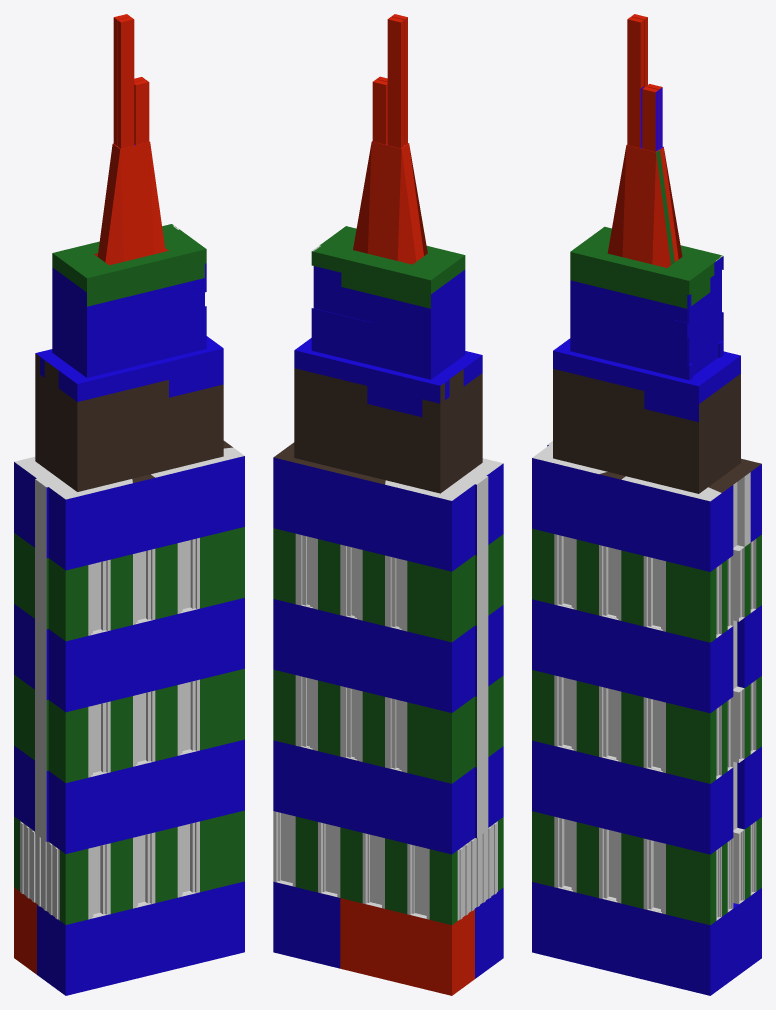
The model's file is st_clement_street_1.fbx.
The picture shows the model from 3 angles, left to right: view 1: azimuth 30°, elevation 25°; view 2: azimuth 150°, elevation 25°; view 3: azimuth 330°, elevation 25°; orthographic projection.
Parts seen in each view (by area): view 1: st_clement_street_1; view 2: st_clement_street_1; view 3: st_clement_street_1.
Part boxes in pixels (x1,y1,x2,y2): st_clement_street_1: [14, 14, 244, 995]; st_clement_street_1: [273, 14, 503, 995]; st_clement_street_1: [532, 14, 761, 995].
Bounding box in the file's own units: 4043 × 20065 × 2000.
